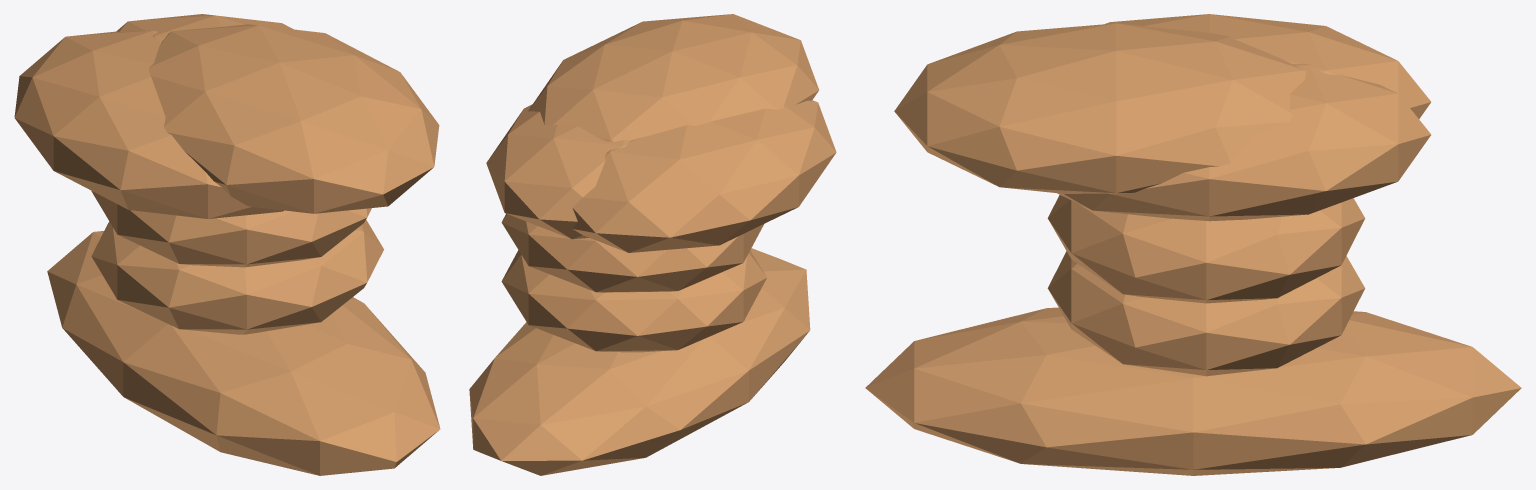
File: Rock.fbx
The picture shows the model from 3 angles, left to right: view 1: azimuth 30°, elevation 25°; view 2: azimuth 150°, elevation 25°; view 3: azimuth 270°, elevation 25°; orthographic projection. The views are drawn at different scales.
Visible parts, largest first — view 1: polySurface15, polySurface10, polySurface12, polySurface14, polySurface13, polySurface11; view 2: polySurface15, polySurface12, polySurface10, polySurface14, polySurface11, polySurface13; view 3: polySurface15, polySurface10, polySurface11, polySurface13, polySurface14, polySurface12.
Part boxes in pixels (left/top/right/bottom): polySurface15: left=47, top=231, right=440, bottom=475; polySurface10: left=149, top=24, right=439, bottom=213; polySurface12: left=14, top=30, right=283, bottom=218; polySurface14: left=91, top=219, right=383, bottom=334; polySurface13: left=91, top=191, right=371, bottom=267; polySurface11: left=116, top=14, right=293, bottom=41; polySurface15: left=469, top=248, right=810, bottom=475; polySurface12: left=572, top=100, right=836, bottom=252; polySurface10: left=528, top=14, right=818, bottom=141; polySurface14: left=501, top=250, right=766, bottom=352; polySurface11: left=486, top=104, right=630, bottom=239; polySurface13: left=501, top=213, right=763, bottom=292; polySurface15: left=865, top=307, right=1521, bottom=475; polySurface10: left=894, top=23, right=1307, bottom=193; polySurface11: left=1057, top=63, right=1431, bottom=221; polySurface13: left=1047, top=195, right=1365, bottom=303; polySurface14: left=1047, top=251, right=1365, bottom=376; polySurface12: left=1105, top=14, right=1430, bottom=118.
Size of the model in its own units: 18.21 by 21.24 by 31.79.
